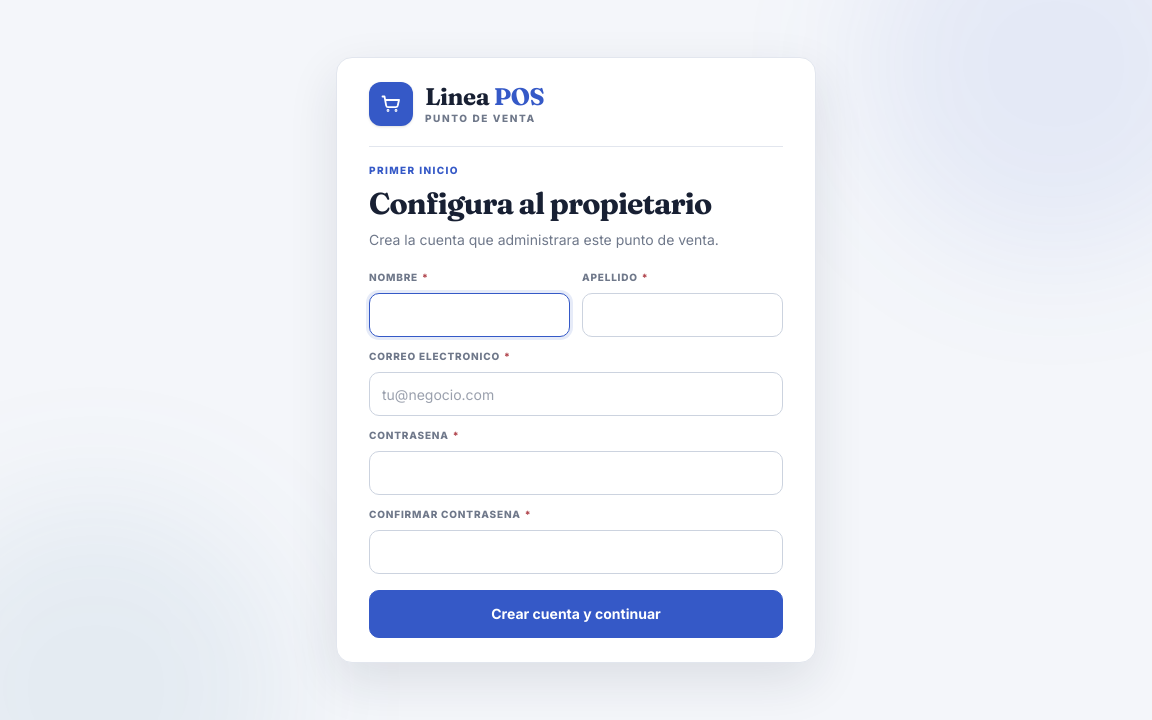
Scenario: AuthScreen › maps the backend confirm_password error to the confirmation field
The image size is (1152, 720).
In the field labelled "Nombre*": coordinates (470, 315) [369,293,570,337], type "Ada"
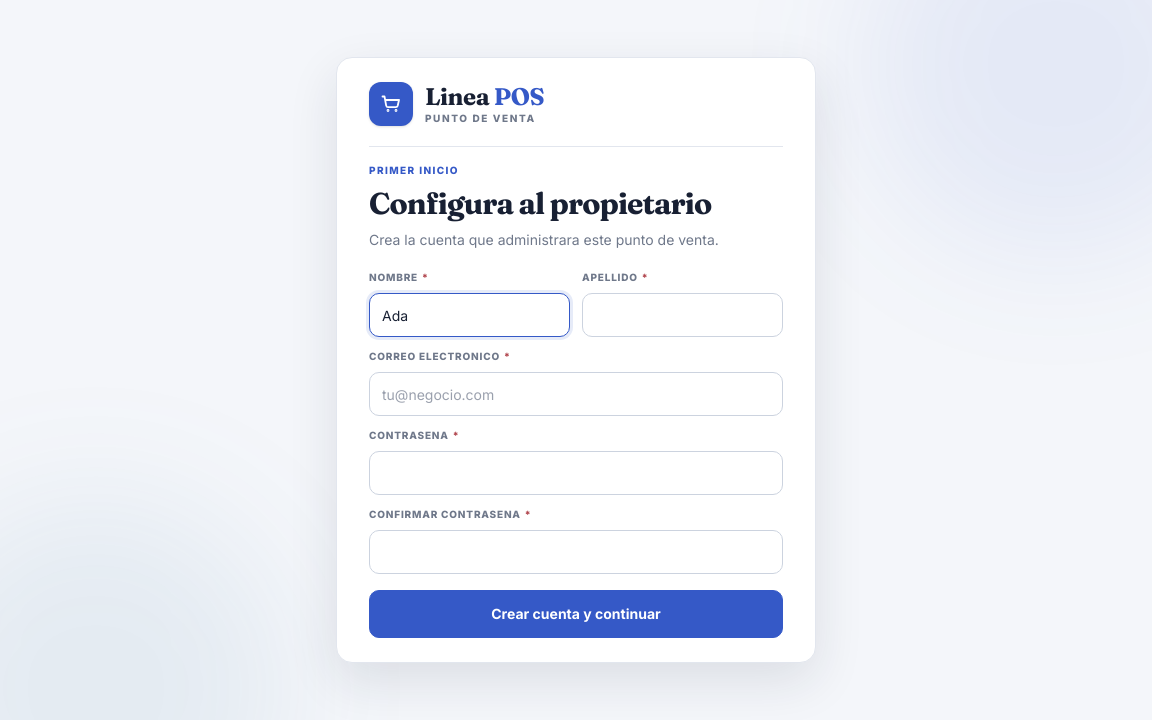
In the field labelled "Apellido*": coordinates (682, 315) [582,293,783,337], type "Lovelace"
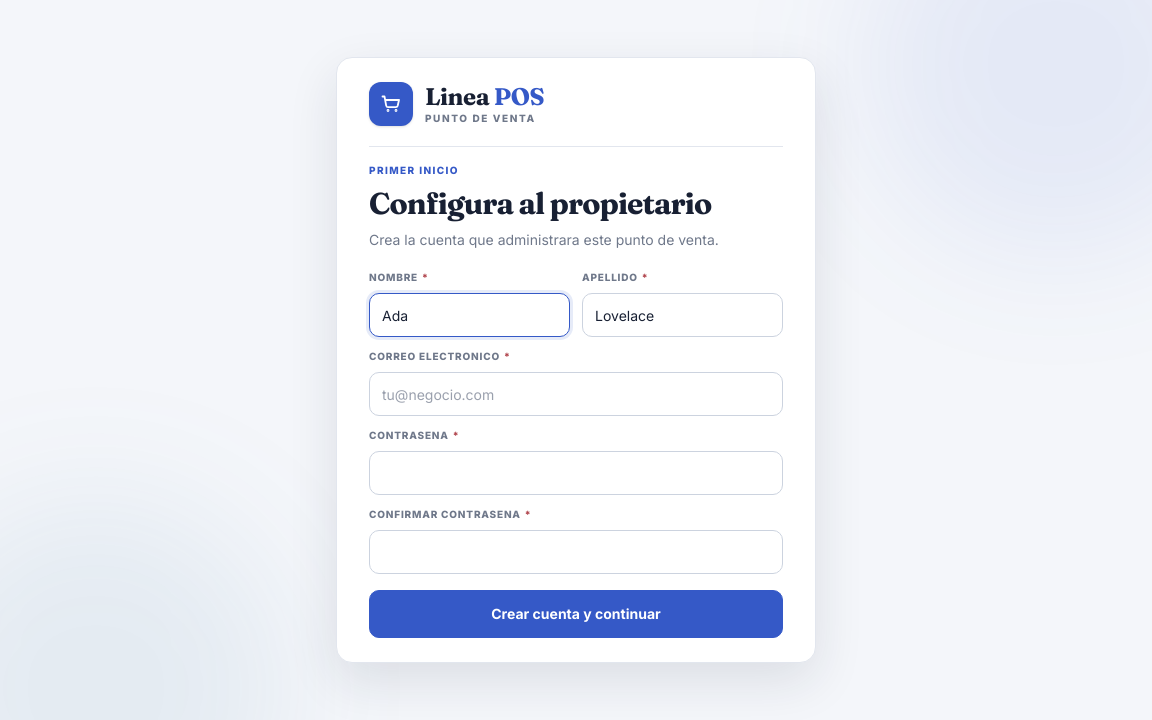
In the field labelled "Correo electronico*": coordinates (576, 394) [369,372,783,416], type "ada@example.com"
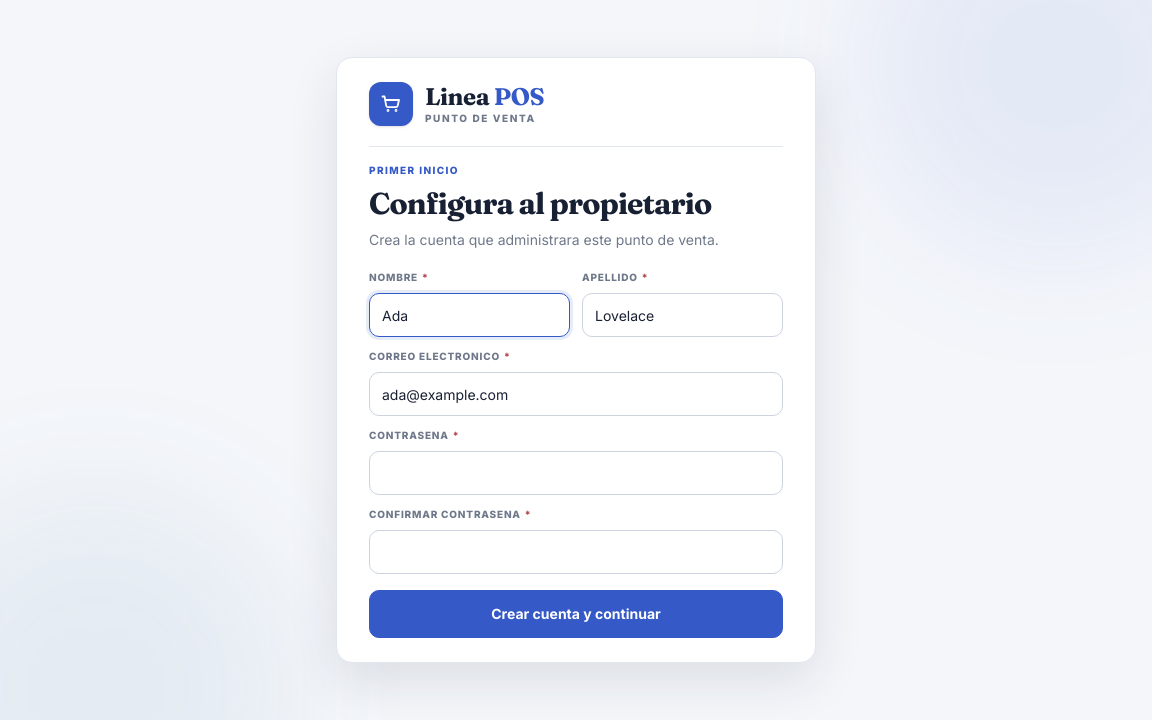
In the password field labelled "Contrasena*": coordinates (576, 473) [369,451,783,495], type "one"
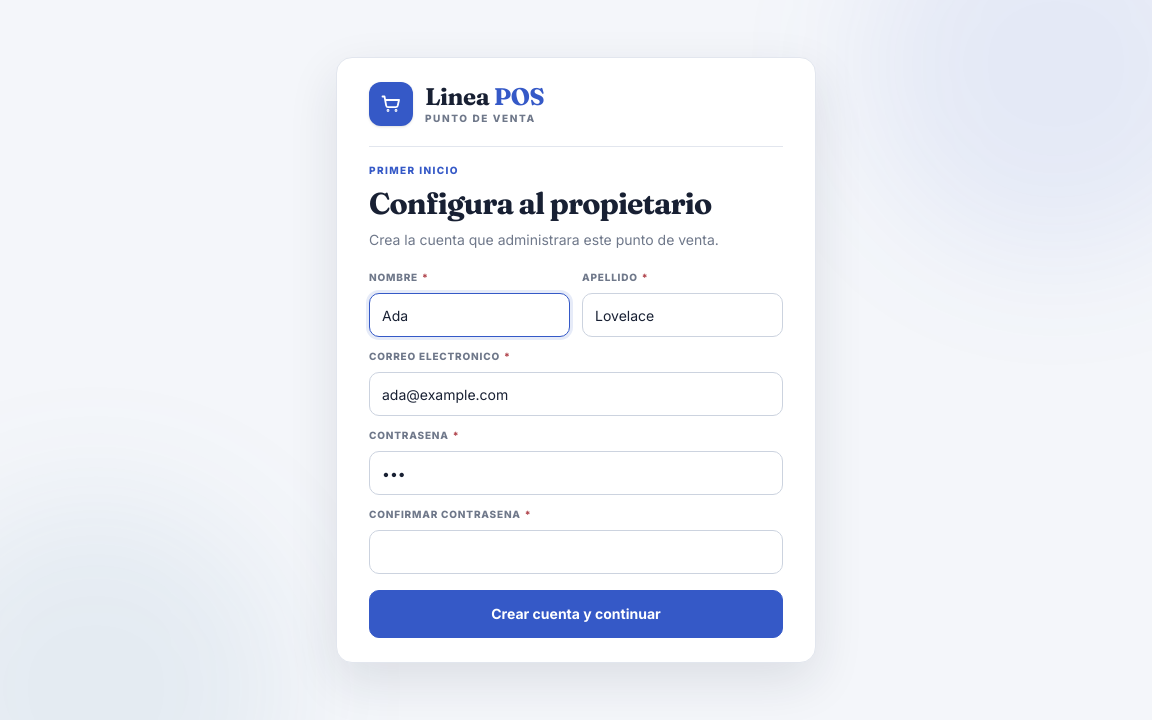
In the password field labelled "Confirmar contrasena*": coordinates (576, 552) [369,530,783,574], type "two"
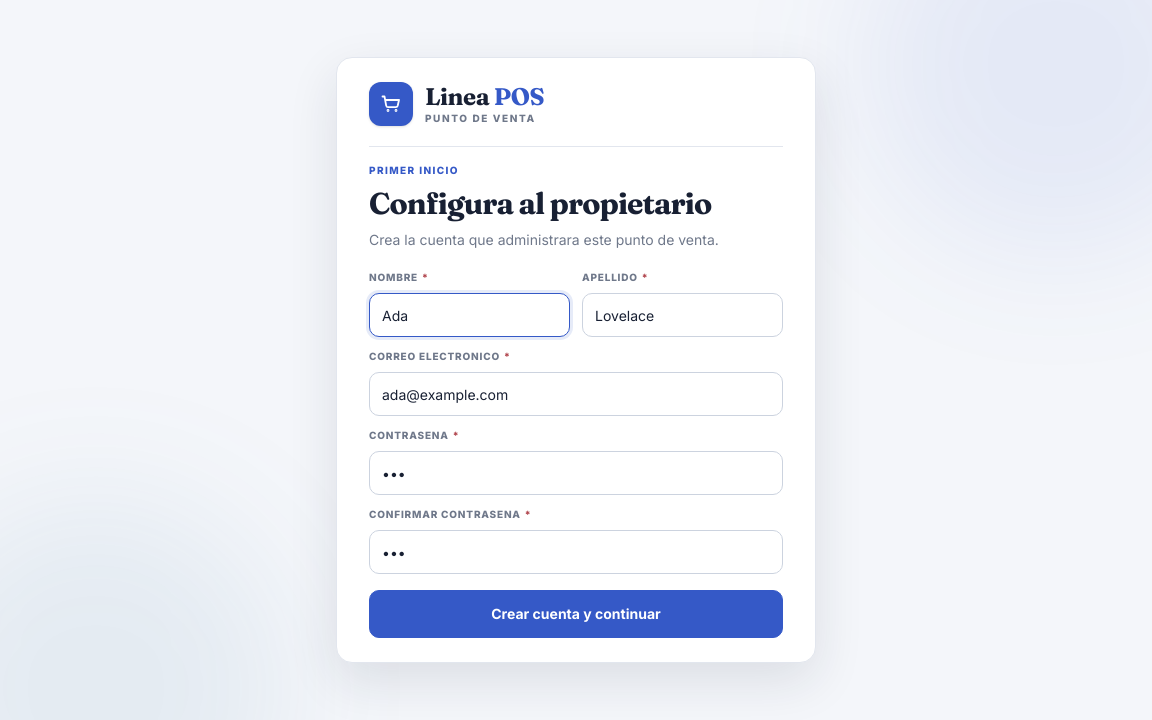
Click the button "Crear cuenta y continuar": coordinates (576, 614) [369,590,783,638]
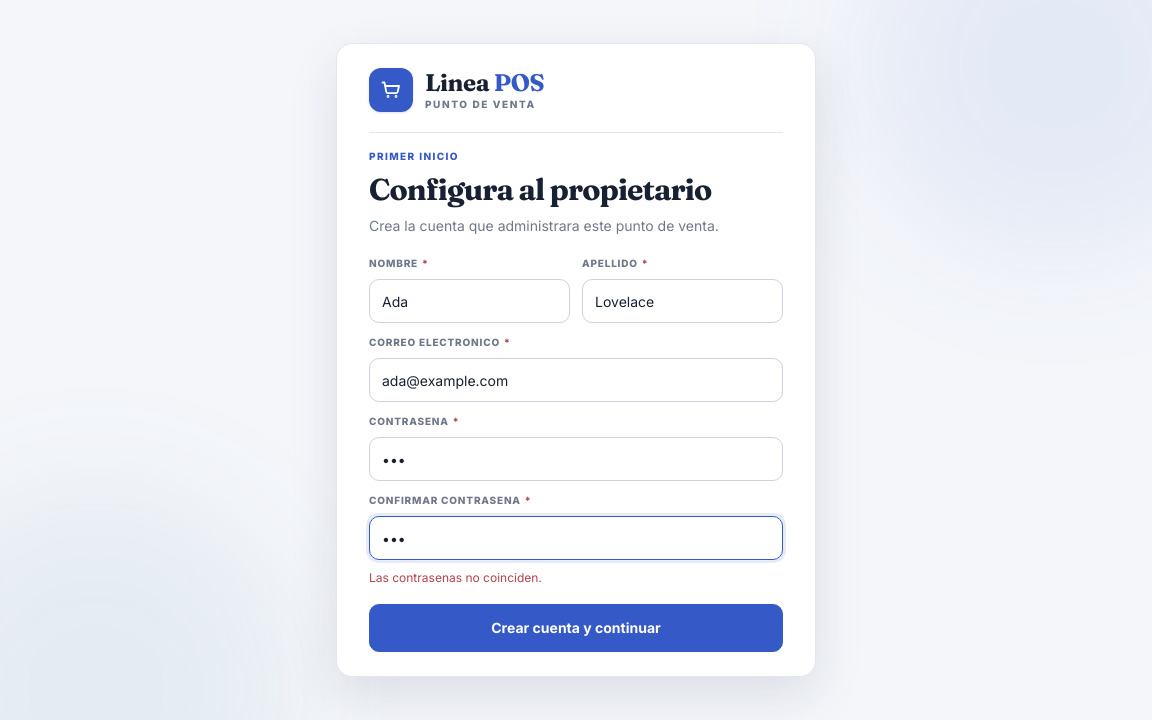
Check: the text "Las contrasenas no coinciden." is shown, box [369,570,542,585]
